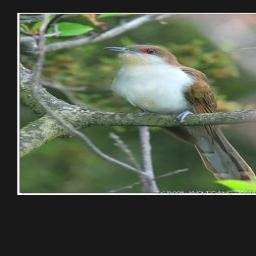Cuckoo: (101, 43, 256, 191)
